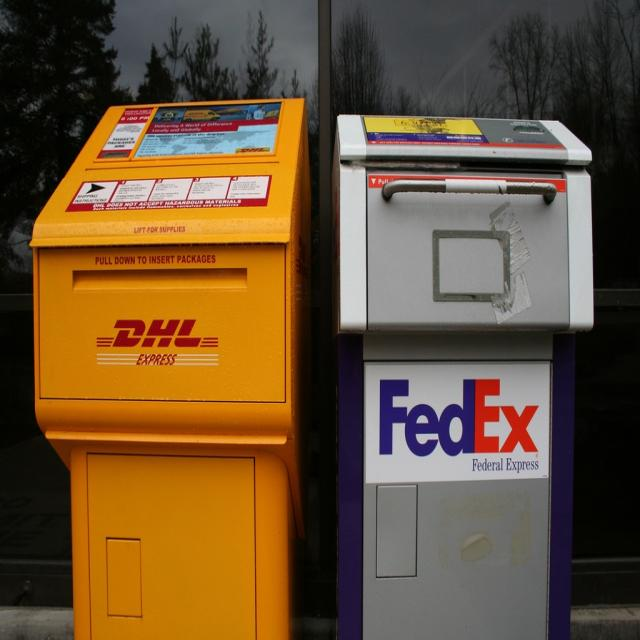dhl: (89, 313, 226, 354)
